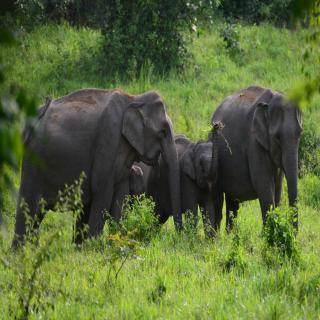Elephant: (8, 84, 186, 256), (207, 83, 304, 243), (144, 121, 222, 242)
